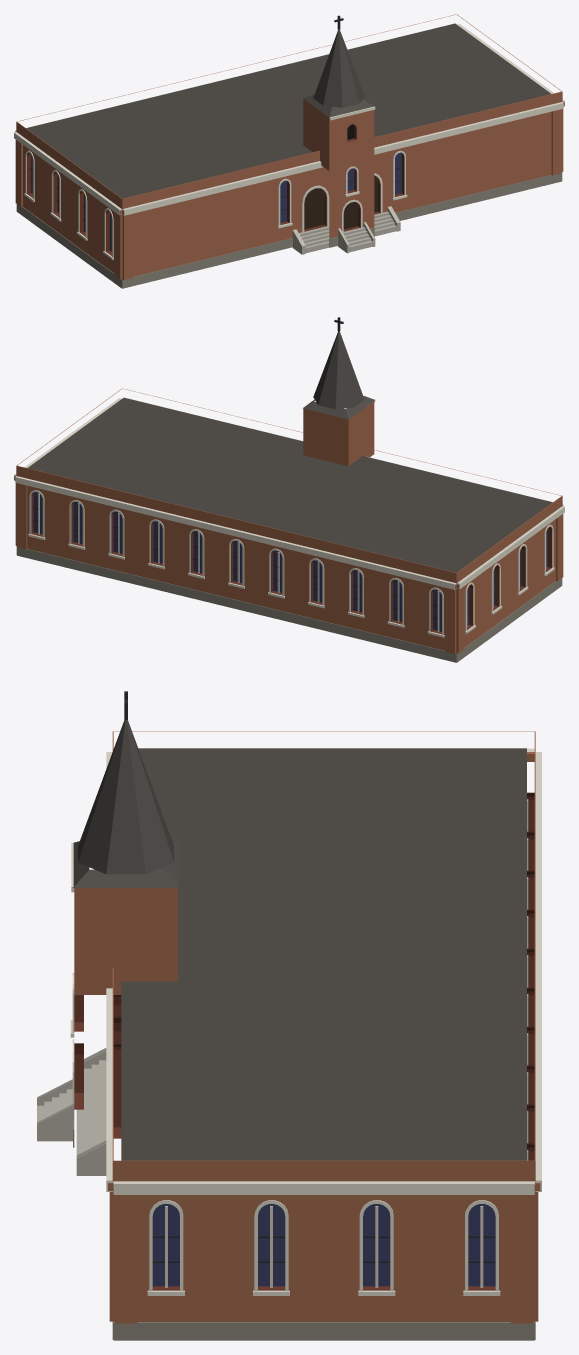
The model's file is central-baptist-church.glb.
3 renders of one model, top to bottom at view 1: azimuth 30°, elevation 25°; view 2: azimuth 150°, elevation 25°; view 3: azimuth 270°, elevation 25°, orthographic. The views are drawn at different scales.
Parts seen in each view (by area): view 1: kit-central-baptist-church; view 2: kit-central-baptist-church; view 3: kit-central-baptist-church.
Part boxes in pixels (bbox=[...]): kit-central-baptist-church: bbox=[14, 14, 564, 288]; kit-central-baptist-church: bbox=[14, 317, 564, 662]; kit-central-baptist-church: bbox=[37, 691, 541, 1340].
Size of the model in its own units: 41.6 by 19.42 by 20.4.
